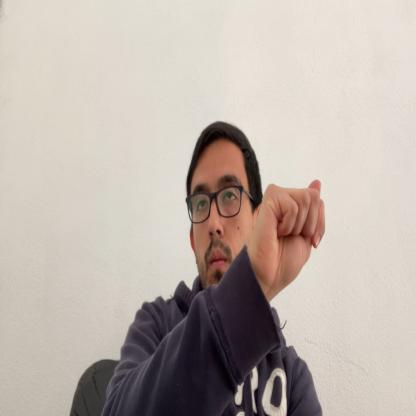T: (254, 177, 326, 293)
